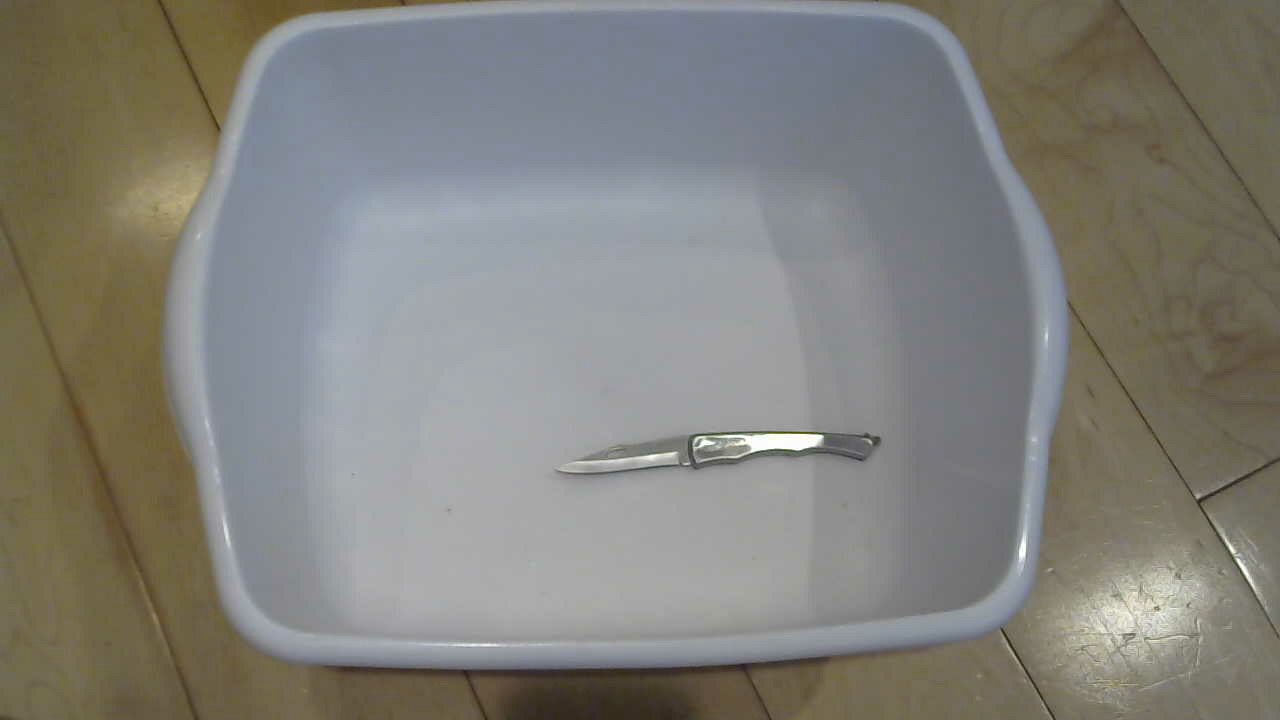knife: (539, 433, 884, 486)
